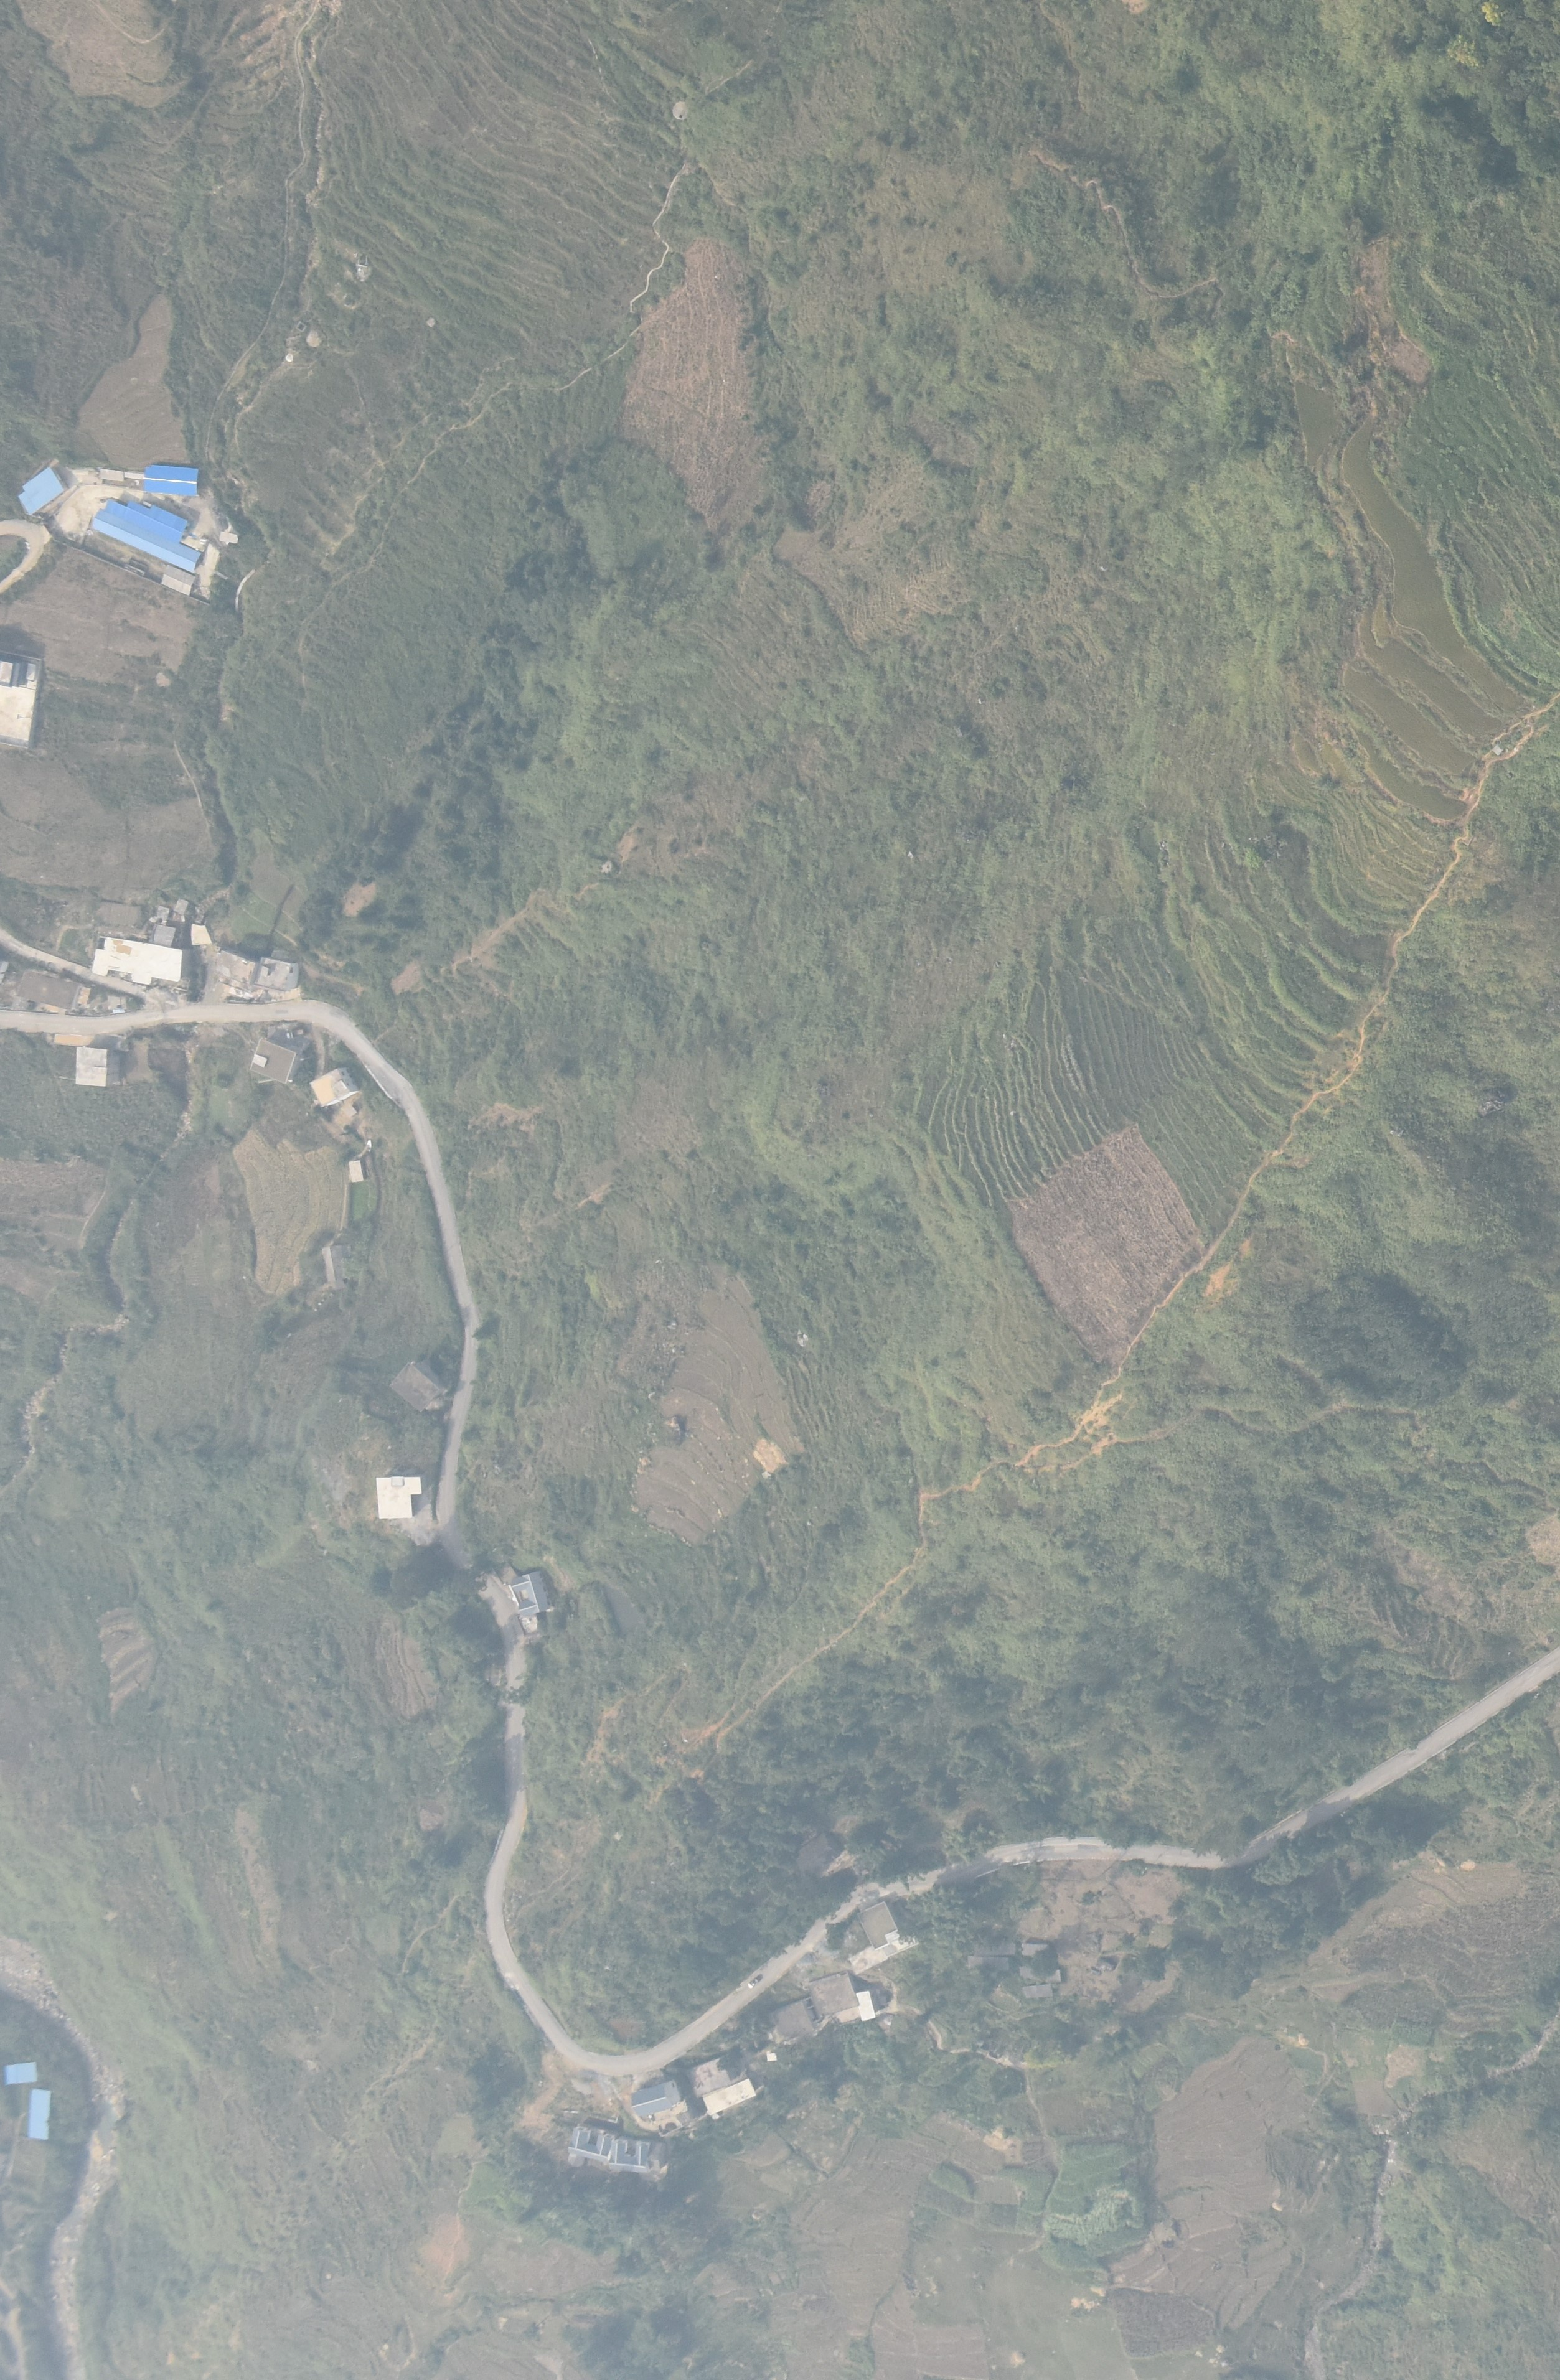building: (0, 652, 49, 755), (92, 938, 183, 985), (14, 971, 91, 1013), (390, 1359, 447, 1413), (249, 1039, 301, 1082), (808, 1971, 858, 2015), (376, 1474, 421, 1519), (857, 1898, 897, 1949), (771, 1996, 815, 2041), (508, 1569, 550, 1616), (312, 1068, 359, 1108), (702, 2079, 756, 2114), (77, 1047, 118, 1086), (632, 2081, 679, 2114), (693, 2058, 733, 2096), (571, 2128, 611, 2163), (256, 957, 298, 990), (216, 950, 256, 983), (608, 2140, 651, 2169), (1017, 1964, 1062, 1983), (324, 1244, 343, 1280), (968, 1955, 1008, 1973), (973, 1943, 1017, 1957), (858, 1990, 876, 2022), (155, 926, 178, 946), (1022, 1943, 1048, 1959), (190, 924, 211, 943), (153, 906, 172, 927), (348, 1159, 366, 1181), (1022, 1987, 1053, 1999), (176, 899, 193, 917)
prefabricated-house: (92, 498, 202, 574), (17, 466, 66, 517), (143, 465, 198, 494), (30, 2088, 50, 2140), (3, 2060, 37, 2084)
vehicle: (286, 1028, 303, 1039), (747, 1976, 759, 1989)
well: (674, 103, 691, 120)
